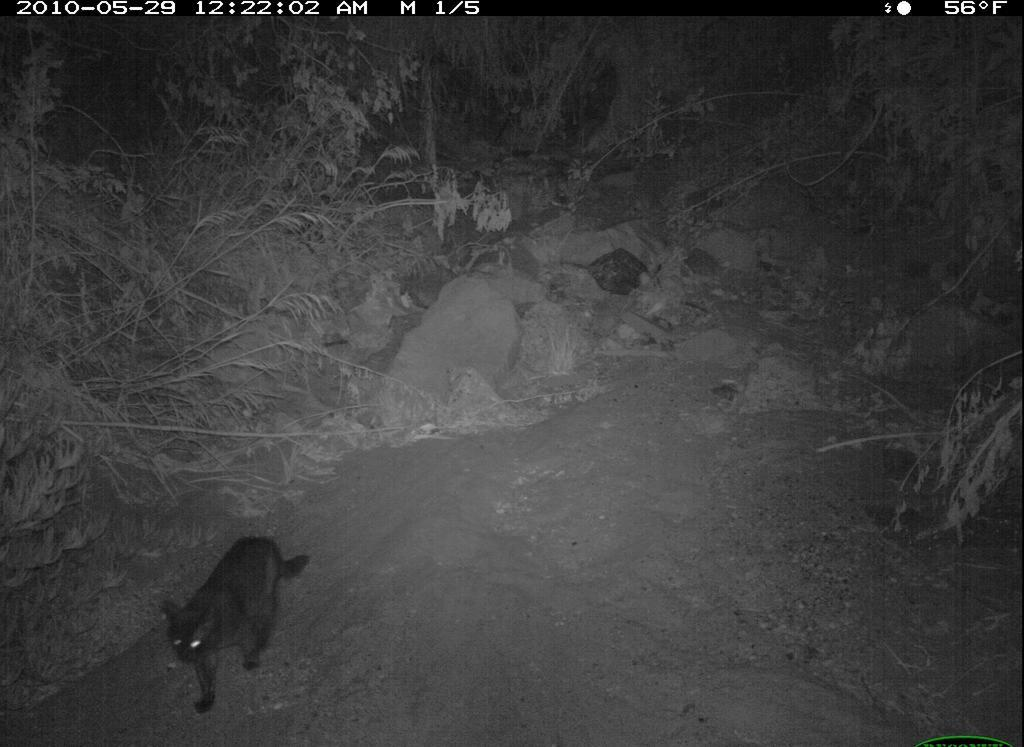cat: (163, 532, 313, 716)
